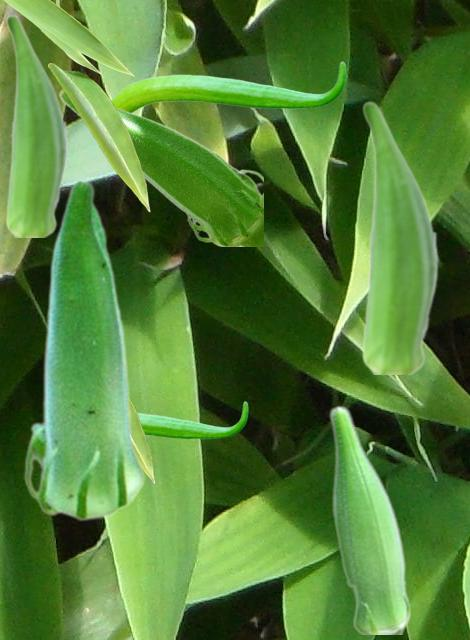okra: (23, 178, 145, 521), (58, 89, 262, 245), (361, 100, 438, 373), (328, 405, 409, 633), (5, 14, 67, 236), (111, 61, 345, 112), (138, 401, 247, 439)
